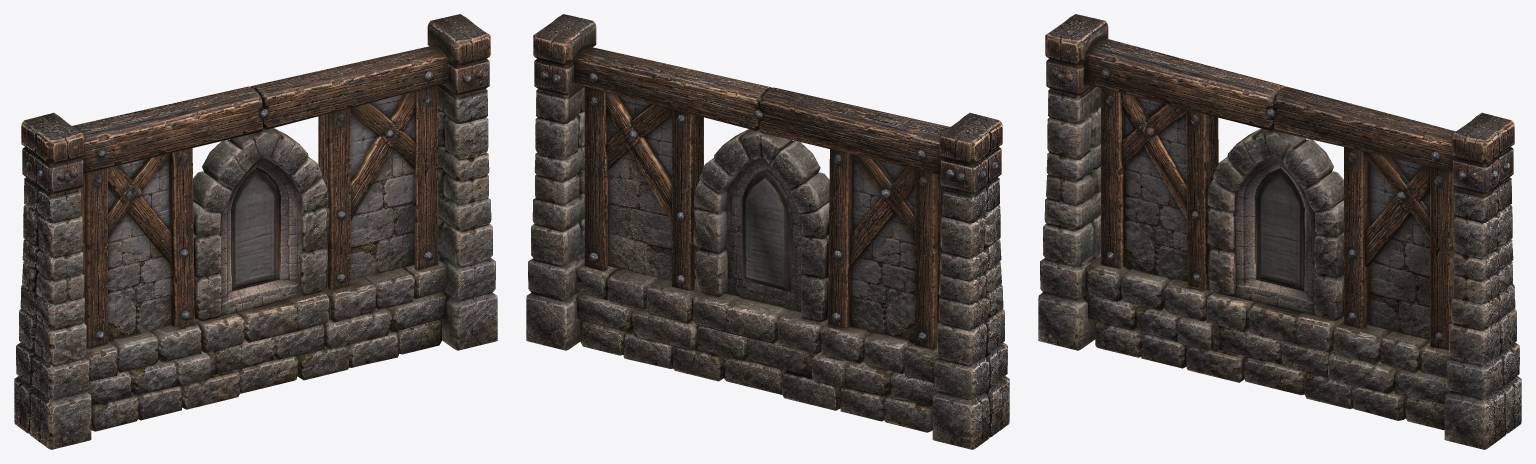
Rendered from concept_medieval_stone_wall.glb.
The picture shows the model from 3 angles, left to right: view 1: azimuth 30°, elevation 25°; view 2: azimuth 150°, elevation 25°; view 3: azimuth 330°, elevation 25°; orthographic projection.
Visible parts, largest first — view 1: tripo_node_e8cf3fa2-99f4-4516-89c6-13dc4864371e; view 2: tripo_node_e8cf3fa2-99f4-4516-89c6-13dc4864371e; view 3: tripo_node_e8cf3fa2-99f4-4516-89c6-13dc4864371e.
Part boxes in pixels (left/top/right/bottom): tripo_node_e8cf3fa2-99f4-4516-89c6-13dc4864371e: left=14, top=14, right=497, bottom=449; tripo_node_e8cf3fa2-99f4-4516-89c6-13dc4864371e: left=526, top=14, right=1009, bottom=449; tripo_node_e8cf3fa2-99f4-4516-89c6-13dc4864371e: left=1038, top=14, right=1521, bottom=449.
Size of the model in its own units: 0.9995 by 0.6489 by 0.1479.
1 material, 1 textured.
